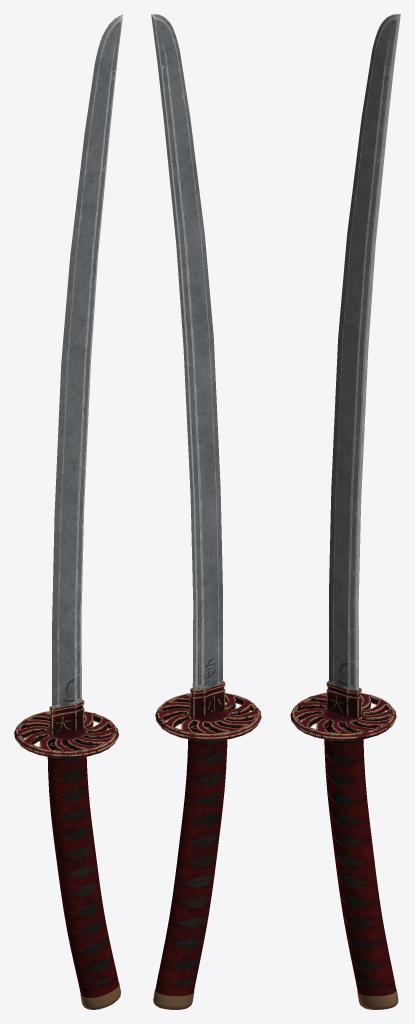
Rendered from Katana.fbx.
The picture shows the model from 3 angles, left to right: view 1: azimuth 30°, elevation 25°; view 2: azimuth 210°, elevation 25°; view 3: azimuth 330°, elevation 25°; orthographic projection.
Visible parts, largest first — view 1: Katana; view 2: Katana; view 3: Katana.
Boxes of the visible parts, box(x1,y1,x2,y2) form: Katana: box(14, 14, 122, 1009); Katana: box(151, 14, 261, 1009); Katana: box(290, 14, 400, 1009).
Bounding box in the file's own units: 13.63 × 126 × 12.17.
